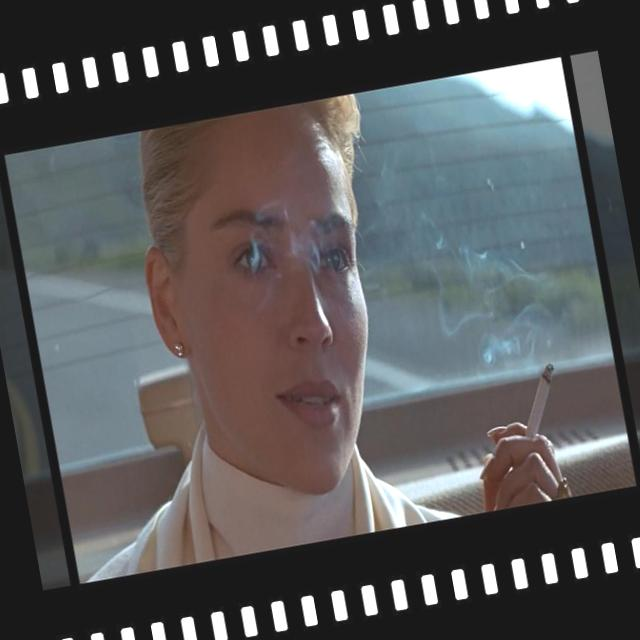smoke: (456, 324, 601, 516)
